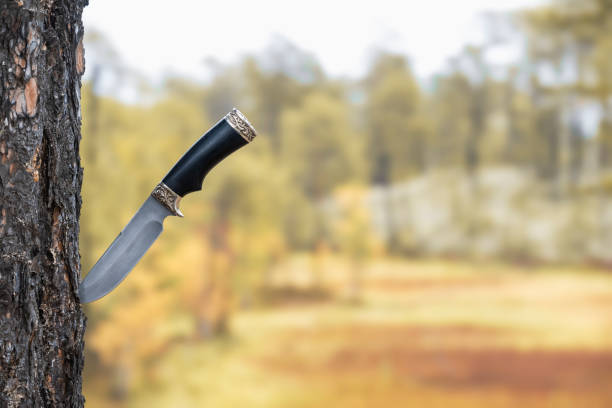knife: (77, 105, 260, 305)
